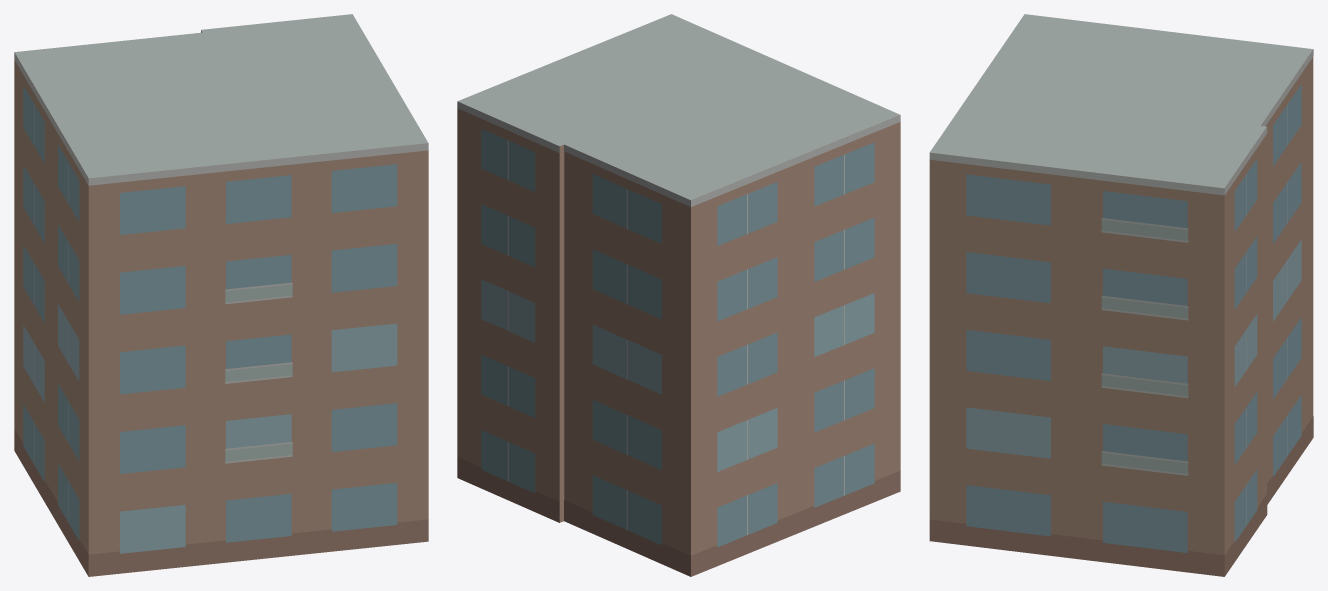
The model's file is survey-upis-32876205.glb.
3 renders of one model, left to right at view 1: azimuth 30°, elevation 25°; view 2: azimuth 150°, elevation 25°; view 3: azimuth 270°, elevation 25°, orthographic. The views are drawn at different scales.
Visible parts, largest first — view 1: survey-upis-32876205.tmp; view 2: survey-upis-32876205.tmp; view 3: survey-upis-32876205.tmp.
Part boxes in pixels (x1,y1,x2,y2): survey-upis-32876205.tmp: [14, 14, 428, 576]; survey-upis-32876205.tmp: [457, 14, 900, 576]; survey-upis-32876205.tmp: [929, 14, 1313, 576].
Size of the model in its own units: 12.91 by 13.4 by 12.01.
